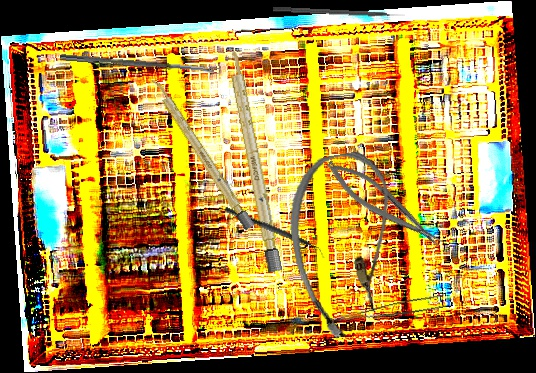Cannula: (279, 147, 411, 343)
Chopper: (220, 206, 330, 260)
Hook Surgical: (272, 6, 406, 20)
Needle Holder: (320, 150, 447, 259)
Scalpel Handle: (148, 75, 256, 232), (224, 45, 283, 273)
Surgical Spoon: (59, 54, 221, 75)
Tissue Forceps: (333, 291, 447, 334)
